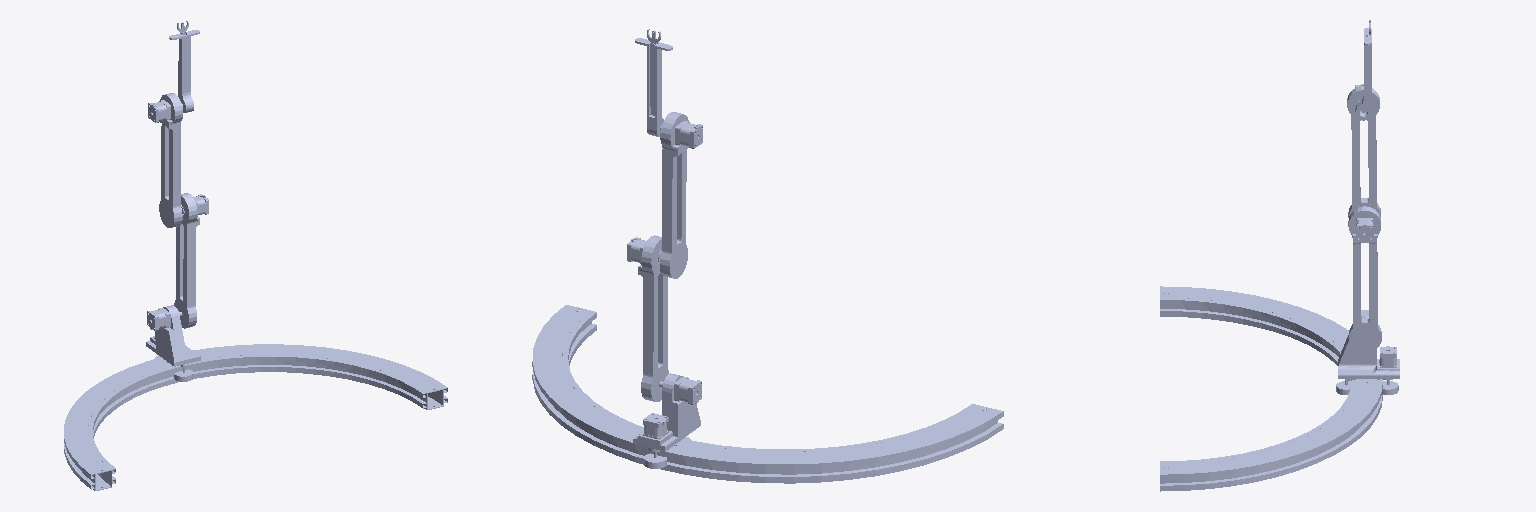
robot.urdf — urdf_assembly3:
<?xml version="1.0" encoding="utf-8"?>
<!-- This URDF was automatically created by SolidWorks to URDF Exporter! Originally created by [author] ([email redacted]) 
     Commit Version: 1.6.0-4-g7f85cfe  Build Version: 1.6.7995.38578
     For more information, please see http://wiki.ros.org/sw_urdf_exporter -->
<robot
  name="urdf_assembly3">
  <link name="world"/>
<joint name="base_joint" type="fixed">
<parent link="world"/>
<child link="base_link"/>
<origin rpy="0 0 0" xyz="0.0 0.0 0.17"/>
</joint>

  <link
    name="base_link">
    <inertial>
      <origin
        xyz="2.387E-15 -0.18027 -0.045837"
        rpy="0 0 0" />
      <mass
        value="0.90639" />
      <inertia
        ixx="0.021934"
        ixy="-4.7325E-17"
        ixz="-4.2054E-18"
        iyy="0.021934"
        iyz="3.2779E-17"
        izz="0.043368" />
    </inertial>
    <visual>
      <origin
        xyz="0 0 0"
        rpy="0 0 0" />
      <geometry>
        <mesh
          filename="package://urdf_assembly3/meshes/base_link.STL" />
      </geometry>
      <material
        name="">
        <color
          rgba="0.79216 0.81961 0.93333 1" />
      </material>
    </visual>
    <collision>
      <origin
        xyz="0 0 0"
        rpy="0 0 0" />
      <geometry>
        <mesh
          filename="package://urdf_assembly3/meshes/base_link.STL" />
      </geometry>
    </collision>
  </link>
  <link
    name="link_1">
    <inertial>
      <origin
        xyz="-0.013312 0.00078157 0.041458"
        rpy="0 0 0" />
      <mass
        value="0.70484" />
      <inertia
        ixx="0.0010961"
        ixy="-3.8544E-05"
        ixz="8.1564E-05"
        iyy="0.00080176"
        iyz="3.4049E-05"
        izz="0.00072923" />
    </inertial>
    <visual>
      <origin
        xyz="0 0 0"
        rpy="0 0 0" />
      <geometry>
        <mesh
          filename="package://urdf_assembly3/meshes/link_1.STL" />
      </geometry>
      <material
        name="">
        <color
          rgba="0.79216 0.81961 0.93333 1" />
      </material>
    </visual>
    <collision>
      <origin
        xyz="0 0 0"
        rpy="0 0 0" />
      <geometry>
        <mesh
          filename="package://urdf_assembly3/meshes/link_1.STL" />
      </geometry>
    </collision>
  </link>
  <joint
    name="joint_1"
    type="fixed">
    <origin
      xyz="0 0 0"
      rpy="0 0 0" />
    <parent
      link="base_link" />
    <child
      link="link_1" />
    <axis
      xyz="0 0 0" />
  </joint>
  <link
    name="link_2">
    <inertial>
      <origin
        xyz="0.17364 0.00070136 0.025562"
        rpy="0 0 0" />
      <mass
        value="0.57902" />
      <inertia
        ixx="0.00028798"
        ixy="-2.5377E-05"
        ixz="-3.659E-05"
        iyy="0.0065707"
        iyz="-1.4779E-07"
        izz="0.0067196" />
    </inertial>
    <visual>
      <origin
        xyz="0 0 0"
        rpy="0 0 0" />
      <geometry>
        <mesh
          filename="package://urdf_assembly3/meshes/link_2.STL" />
      </geometry>
      <material
        name="">
        <color
          rgba="0.79216 0.81961 0.93333 1" />
      </material>
    </visual>
    <collision>
      <origin
        xyz="0 0 0"
        rpy="0 0 0" />
      <geometry>
        <mesh
          filename="package://urdf_assembly3/meshes/link_2.STL" />
      </geometry>
    </collision>
  </link>
  <joint
    name="joint_2"
    type="revolute">
    <origin
      xyz="0.012 -0.0040048 0.112"
      rpy="0 -1.5708 3.1416" />
    <parent
      link="link_1" />
    <child
      link="link_2" />
    <axis
      xyz="0 0 1" />
    <limit
      lower="-1"
      upper="1.5"
      effort="0.7"
      velocity="0.5" />
  </joint>
  <link
    name="link_3">
    <inertial>
      <origin
        xyz="0.17364 -0.0018544 0.025562"
        rpy="0 0 0" />
      <mass
        value="0.57902" />
      <inertia
        ixx="0.0002886"
        ixy="6.7091E-05"
        ixz="-3.6589E-05"
        iyy="0.0065701"
        iyz="3.9075E-07"
        izz="0.0067196" />
    </inertial>
    <visual>
      <origin
        xyz="0 0 0"
        rpy="0 0 0" />
      <geometry>
        <mesh
          filename="package://urdf_assembly3/meshes/link_3.STL" />
      </geometry>
      <material
        name="">
        <color
          rgba="0.79216 0.81961 0.93333 1" />
      </material>
    </visual>
    <collision>
      <origin
        xyz="0 0 0"
        rpy="0 0 0" />
      <geometry>
        <mesh
          filename="package://urdf_assembly3/meshes/link_3.STL" />
      </geometry>
    </collision>
  </link>
  <joint
    name="joint_3"
    type="revolute">
    <origin
      xyz="0.3 0.0012117 -0.004"
      rpy="3.1416 0 0" />
    <parent
      link="link_2" />
    <child
      link="link_3" />
    <axis
      xyz="0 0 1" />
    <limit
      lower="-1"
      upper="1.5"
      effort="0.7"
      velocity="0.5" />
  </joint>
  <link
    name="link_4">
    <inertial>
      <origin
        xyz="0.094221 -0.0079481 0.019986"
        rpy="0 0 0" />
      <mass
        value="0.12035" />
      <inertia
        ixx="1.8013E-05"
        ixy="1.5046E-05"
        ixz="-5.6387E-19"
        iyy="0.00053115"
        iyz="3.0882E-21"
        izz="0.00052647" />
    </inertial>
    <visual>
      <origin
        xyz="0 0 0"
        rpy="0 0 0" />
      <geometry>
        <mesh
          filename="package://urdf_assembly3/meshes/link_4.STL" />
      </geometry>
      <material
        name="">
        <color
          rgba="0.79216 0.81961 0.93333 1" />
      </material>
    </visual>
    <collision>
      <origin
        xyz="0 0 0"
        rpy="0 0 0" />
      <geometry>
        <mesh
          filename="package://urdf_assembly3/meshes/link_4.STL" />
      </geometry>
    </collision>
  </link>
  <joint
    name="joint_4"
    type="revolute">
    <origin
      xyz="0.29998 -0.0032037 -0.004"
      rpy="-3.1416 0 0" />
    <parent
      link="link_3" />
    <child
      link="link_4" />
    <axis
      xyz="0 0 -1" />
    <limit
      lower="-1"
      upper="1.5"
      effort="0.7"
      velocity="0.5" />
  </joint>
  <transmission name="link_1_trans">
<type>transmission_interface/SimpleTransmission</type>
<joint name="joint_1">
<hardwareInterface>hardware_interface/PositionJointInterface</hardwareInterface>
</joint>
<actuator name="link_1_motor">
<hardwareInterface>hardware_interface/PositionJointInterface</hardwareInterface>
<mechanicalReduction>1</mechanicalReduction>
</actuator>
</transmission>

<transmission name="link_2_trans">
<type>transmission_interface/SimpleTransmission</type>
<joint name="joint_2">
<hardwareInterface>hardware_interface/PositionJointInterface</hardwareInterface>
</joint>
<actuator name="link_2_motor">
<hardwareInterface>hardware_interface/PositionJointInterface</hardwareInterface>
<mechanicalReduction>1</mechanicalReduction>
</actuator>
</transmission>

<transmission name="link_3_trans">
<type>transmission_interface/SimpleTransmission</type>
<joint name="joint_3">
<hardwareInterface>hardware_interface/PositionJointInterface</hardwareInterface>
</joint>
<actuator name="link_3_motor">
<hardwareInterface>hardware_interface/PositionJointInterface</hardwareInterface>
<mechanicalReduction>1</mechanicalReduction>
</actuator>
</transmission>

<transmission name="link_4_trans">
<type>transmission_interface/SimpleTransmission</type>
<joint name="joint_4">
<hardwareInterface>hardware_interface/PositionJointInterface</hardwareInterface>
</joint>
<actuator name="link_4_motor">
<hardwareInterface>hardware_interface/PositionJointInterface</hardwareInterface>
<mechanicalReduction>1</mechanicalReduction>
</actuator>
</transmission>

<gazebo>
<plugin name="control"
filename="libgazebo_ros_control.so">
<robotNamespace>/</robotNamespace>
</plugin>
</gazebo>

<gazebo reference="link_1">
<selfCollide>true</selfCollide>
</gazebo>
v
<gazebo reference="link_2">
<selfCollide>true</selfCollide>
</gazebo>
<gazebo reference="link_3">
<selfCollide>true</selfCollide>
</gazebo>
<gazebo reference="link_4">
<selfCollide>true</selfCollide>
</gazebo>
</robot>

--- Render facts (derived) ---
3 views of the same robot in one strip: view 1: azimuth 30°, elevation 25°; view 2: azimuth 150°, elevation 25°; view 3: azimuth 270°, elevation 25° (orthographic).
Robot: urdf_assembly3 — 6 links, 5 joints (3 revolute, 2 fixed); root link world; default pose: all joints at 0.
Visible links, largest first — view 1: base_link, link_3, link_2, link_1, link_4; view 2: base_link, link_3, link_2, link_1, link_4; view 3: base_link, link_2, link_1, link_3, link_4.
Link boxes in pixels (<box>): base_link: <box>64,344,447,490</box>; link_3: <box>148,93,183,227</box>; link_2: <box>174,193,208,328</box>; link_1: <box>146,305,200,381</box>; link_4: <box>169,21,199,112</box>; base_link: <box>532,305,1003,483</box>; link_3: <box>659,112,702,278</box>; link_2: <box>627,235,668,401</box>; link_1: <box>633,373,701,468</box>; link_4: <box>635,29,672,136</box>; base_link: <box>1160,286,1382,491</box>; link_2: <box>1348,206,1381,352</box>; link_1: <box>1336,310,1399,394</box>; link_3: <box>1347,84,1380,217</box>; link_4: <box>1355,20,1371,120</box>.
Size in the robot's own frame: 1.08 by 0.5779 by 1.02 metres.
5 mesh visuals loaded from 5 distinct referenced files (5 binary STL).